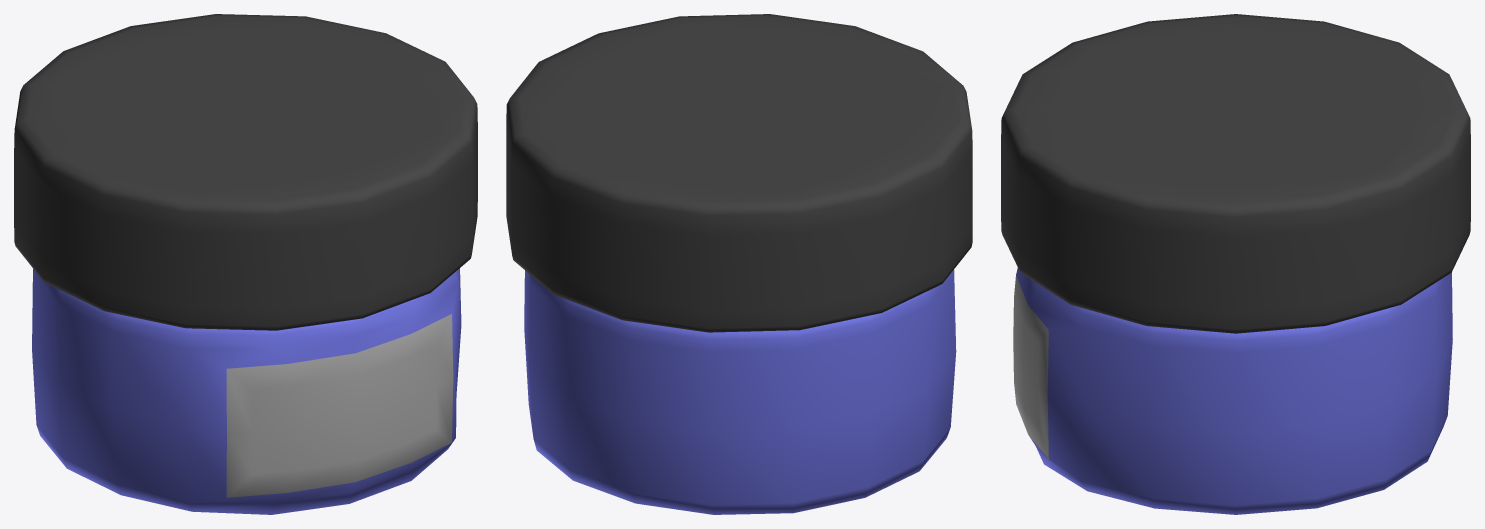
The model's file is Pocion_2.fbx.
The picture shows the model from 3 angles, left to right: view 1: azimuth 30°, elevation 25°; view 2: azimuth 150°, elevation 25°; view 3: azimuth 270°, elevation 25°; orthographic projection.
Parts seen in each view (by area): view 1: Cube.002; view 2: Cube.002; view 3: Cube.002.
Part boxes in pixels (x1,y1,x2,y2): Cube.002: (14, 14, 477, 514); Cube.002: (506, 14, 972, 514); Cube.002: (1001, 14, 1470, 514).
Bounding box in the file's own units: 70.71 × 53.34 × 70.71.
